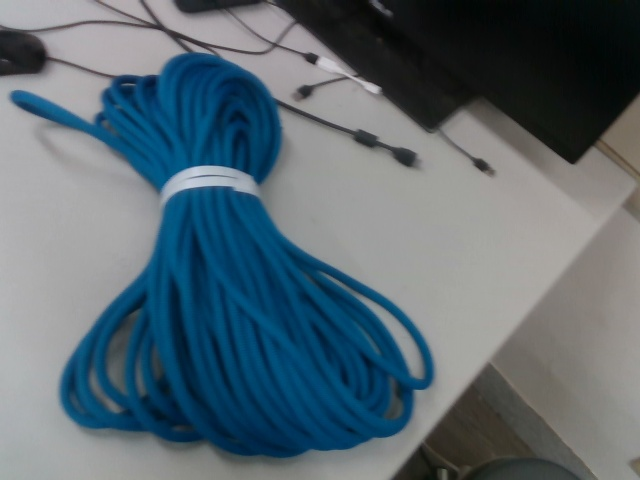rope: (8, 51, 437, 463)
